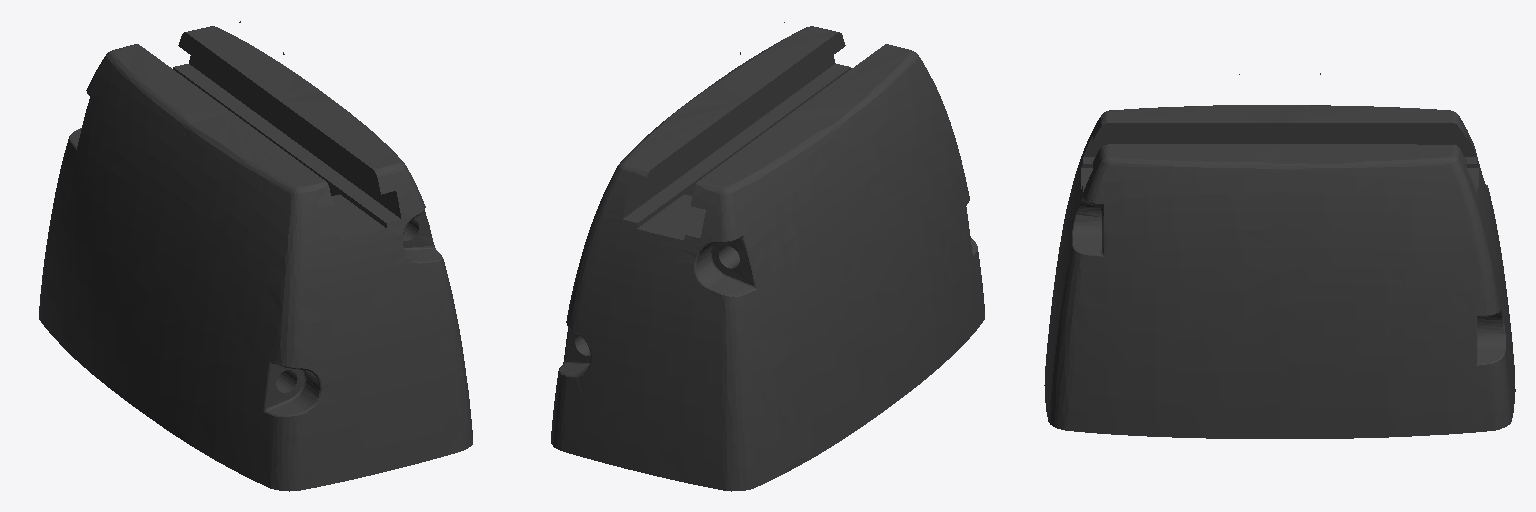
URDF robot description (youbot):
<?xml version="1.0" ?>
<!-- =================================================================================== -->
<!-- |    This document was autogenerated by xacro from [local-path]/workspaces/git/youbot-ros-pkg/youbot_common/youbot_description/robots/youbot_gripper.urdf.xacro | -->
<!-- |    EDITING THIS FILE BY HAND IS NOT RECOMMENDED                                 | -->
<!-- =================================================================================== -->
<robot name="youbot" xmlns:controller="http://playerstage.sourceforge.net/gazebo/xmlschema/#controller" xmlns:interface="http://playerstage.sourceforge.net/gazebo/xmlschema/#interface" xmlns:sensor="http://playerstage.sourceforge.net/gazebo/xmlschema/#sensor" xmlns:xacro="http://ros.org/wiki/xacro">
  <!-- The following included files set up definitions of parts of the robot body -->
  <!-- misc common stuff? -->
  <!-- youbot gripper -->
  <!-- generic simulator_gazebo plugins for starting mechanism control, ros time, ros battery -->
  <gazebo>
    <controller:gazebo_ros_controller_manager name="gazebo_ros_controller_manager" plugin="libgazebo_ros_controller_manager.so">
      <alwaysOn>true</alwaysOn>
      <updateRate>1000.0</updateRate>
      <interface:audio name="gazebo_ros_controller_manager_dummy_iface"/>
    </controller:gazebo_ros_controller_manager>
    <controller:gazebo_ros_power_monitor name="gazebo_ros_power_monitor_controller" plugin="libgazebo_ros_power_monitor.so">
      <alwaysOn>true</alwaysOn>
      <updateRate>1.0</updateRate>
      <timeout>5</timeout>
      <interface:audio name="power_monitor_dummy_interface"/>
      <powerStateTopic>power_state</powerStateTopic>
      <powerStateRate>10.0</powerStateRate>
      <fullChargeCapacity>87.78</fullChargeCapacity>
      <dischargeRate>-474</dischargeRate>
      <chargeRate>525</chargeRate>
      <dischargeVoltage>15.52</dischargeVoltage>
      <chargeVoltage>16.41</chargeVoltage>
    </controller:gazebo_ros_power_monitor>
  </gazebo>
  <!-- materials for visualization -->
  <material name="Orange">
    <color rgba="1.0 0.4 0.0 1.0"/>
  </material>
  <material name="Grey">
    <color rgba="0.7 0.7 0.7 1.0"/>
  </material>
  <material name="DarkGrey">
    <color rgba="0.3 0.3 0.3 1.0"/>
  </material>
  <material name="White">
    <color rgba="1.0 1.0 1.0 1.0"/>
  </material>
  <material name="Black">
    <color rgba="0.0 0.0 0.0 1.0"/>
  </material>
  <material name="Red">
    <color rgba="1.0 0.0 0.0 1.0"/>
  </material>
  <material name="Green">
    <color rgba="0.0 1.0 0.0 1.0"/>
  </material>
  <!-- Now we can start using the macros included above to define the actual youbot -->
  <!-- The first use of a macro.  This one was defined in base.urdf.xacro above.
       A macro like this will expand to a set of link and joint definitions, and to additional
       Gazebo-related extensions (sensor plugins, etc).  The macro takes an argument, name, 
       that equals "base", and uses it to generate names for its component links and joints 
       (e.g., base_link).  The included origin block is also an argument to the macro.  By convention, 
       the origin block defines where the component is w.r.t its parent (in this case the parent 
       is the world frame). For more, see http://www.ros.org/wiki/xacro -->
  <!-- foot for arm-->
  <link name="base_link">
    
  </link>
  <joint name="gripper_palm_joint" type="fixed">
    <origin rpy="0 0 0" xyz="0 0 0"/>
    <parent link="base_link"/>
    <child link="gripper_palm_link"/>
  </joint>
  <link name="gripper_palm_link">
    <inertial>
      <origin rpy="0 0 0" xyz="0 0 0"/>
      <mass value="0.1"/>
      <inertia ixx="0.01" ixy="0" ixz="0" iyy="0.01" iyz="0" izz="0.01"/>
    </inertial>
    <visual>
      <origin rpy="0 0 0" xyz="0 0 0"/>
      <geometry>
        <mesh filename="package://youbot_description/meshes/youbot_gripper/palm.dae"/>
      </geometry>
      <material name="DarkGrey"/>
    </visual>
    <collision>
      <origin rpy="0 0 0" xyz="0 0 0"/>
      <geometry>
        <!--<box size="0.050 0.094 0.054"/>-->
        <mesh filename="package://youbot_description/meshes/youbot_gripper/palm_convex.dae"/>
      </geometry>
    </collision>
  </link>
  <joint name="gripper_finger_joint_l" type="prismatic">
    <origin rpy="0 0 3.14159265359" xyz="0.004 0.008 0.046"/>
    <parent link="gripper_palm_link"/>
    <child link="gripper_finger_link_l"/>
    <axis xyz="0 -1 0"/>
    <dynamics damping="1.0" friction="1.0"/>
    <limit effort="1" lower="0" upper="0.0115" velocity="0.1"/>
    <safety_controller k_position="20" k_velocity="25" soft_lower_limit="0.001" soft_upper_limit="0.011"/>
  </joint>
  <link name="gripper_finger_link_l">
    <inertial>
      <origin rpy="0 0 0" xyz="0 -0.001 0"/>
      <mass value="0.01"/>
      <inertia ixx="0.01" ixy="0" ixz="0" iyy="0.01" iyz="0" izz="0.01"/>
    </inertial>
    <visual>
      <origin rpy="0 0 0" xyz="0 0 0"/>
      <geometry>
        <mesh filename="package://youbot_description/meshes/youbot_gripper/finger.dae"/>
      </geometry>
      <material name="DarkGrey"/>
    </visual>
    <collision>
      <origin rpy="0 0 0" xyz="0 0 0"/>
      <geometry>
        <!--<box size="0.014 0.020 0.046"/>-->
        <mesh filename="package://youbot_description/meshes/youbot_gripper/finger_convex.dae"/>
      </geometry>
    </collision>
  </link>
  <joint name="gripper_finger_joint_r" type="prismatic">
    <origin rpy="0 0 0" xyz="0.004 -0.008 0.046"/>
    <parent link="gripper_palm_link"/>
    <child link="gripper_finger_link_r"/>
    <axis xyz="0 -1 0"/>
    <dynamics damping="1.0" friction="1.0"/>
    <limit effort="1" lower="0" upper="0.0115" velocity="0.1"/>
    <safety_controller k_position="20" k_velocity="25" soft_lower_limit="0.001" soft_upper_limit="0.011"/>
  </joint>
  <link name="gripper_finger_link_r">
    <inertial>
      <origin rpy="0 0 0" xyz="0.000 -0.001 0"/>
      <mass value="0.01"/>
      <inertia ixx="0.01" ixy="0" ixz="0" iyy="0.01" iyz="0" izz="0.01"/>
    </inertial>
    <visual>
      <origin rpy="0 0 0" xyz="0 0 0"/>
      <geometry>
        <mesh filename="package://youbot_description/meshes/youbot_gripper/finger.dae"/>
      </geometry>
      <material name="DarkGrey"/>
    </visual>
    <collision>
      <origin rpy="0 0 0" xyz="0.000 0 0"/>
      <geometry>
        <!--<box size="0.014 0.020 0.046"/>-->
        <mesh filename="package://youbot_description/meshes/youbot_gripper/finger_convex.dae"/>
      </geometry>
    </collision>
  </link>
  <gazebo reference="gripper_palm_link">
    <material>Gazebo/Black</material>
    <turnGravityOff>false</turnGravityOff>
    <selfCollide>true</selfCollide>
  </gazebo>
  <gazebo reference="gripper_finger_l_link">
    <material>Gazebo/Black</material>
    <turnGravityOff>false</turnGravityOff>
    <selfCollide>true</selfCollide>
  </gazebo>
  <gazebo reference="gripper_finger_r_link">
    <material>Gazebo/Black</material>
    <turnGravityOff>false</turnGravityOff>
    <selfCollide>true</selfCollide>
  </gazebo>
  <transmission name="gripper_finger_l_trans" type="pr2_mechanism_model/SimpleTransmission">
    <actuator name="gripper_finger_l_motor"/>
    <joint name="gripper_finger_joint_l"/>
    <mechanicalReduction>1</mechanicalReduction>
  </transmission>
  <transmission name="gripper_finger_r_trans" type="pr2_mechanism_model/SimpleTransmission">
    <actuator name="gripper_finger_r_motor"/>
    <joint name="gripper_finger_joint_r"/>
    <mechanicalReduction>1</mechanicalReduction>
  </transmission>
</robot>

--- What the picture shows (computed from the rendered views, not written in the file) ---
3 views of the same robot in one strip: view 1: azimuth 30°, elevation 25°; view 2: azimuth 150°, elevation 25°; view 3: azimuth 270°, elevation 25° (orthographic).
Robot: youbot — 4 links, 3 joints (2 prismatic, 1 fixed); root link base_link; default pose: all joints at 0.
Visible links, largest first — view 1: gripper_palm_link; view 2: gripper_palm_link; view 3: gripper_palm_link.
Link boxes in pixels (left/top/right/bottom): gripper_palm_link: left=39, top=26, right=472, bottom=491; gripper_palm_link: left=551, top=26, right=984, bottom=491; gripper_palm_link: left=1044, top=105, right=1515, bottom=438.
Size in the robot's own frame: 0.0507 by 0.0932 by 0.0688 metres.
Meshes: 2 distinct files referenced, 3 mesh visuals loaded (2 Collada DAE).